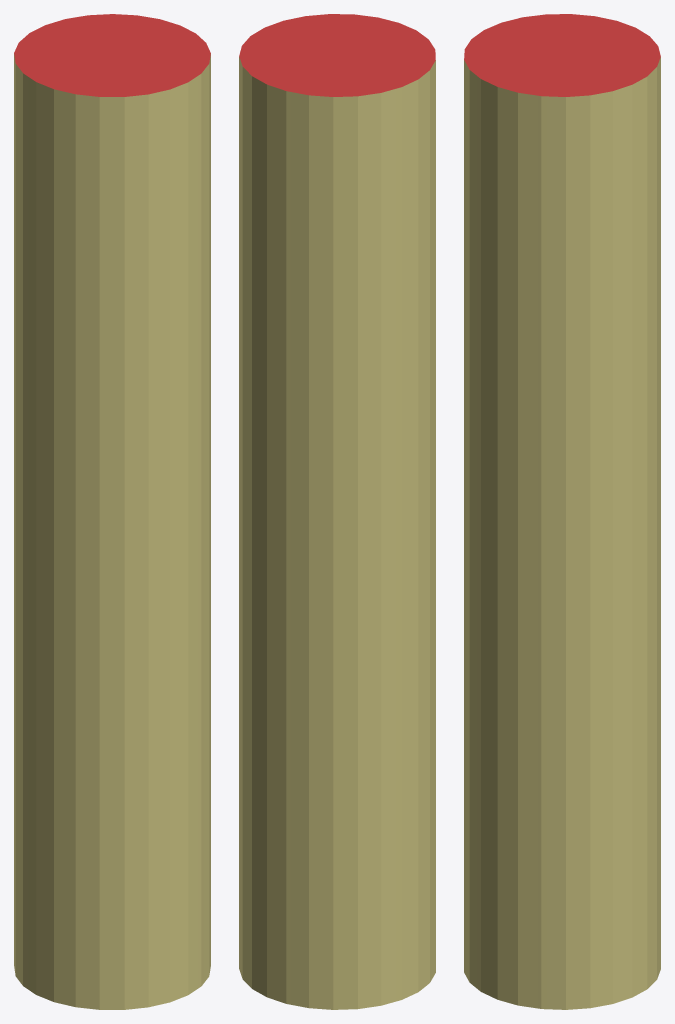
The picture shows the model from 3 angles, left to right: view 1: azimuth 30°, elevation 25°; view 2: azimuth 150°, elevation 25°; view 3: azimuth 270°, elevation 25°; orthographic projection.
Bounding box in the file's own units: 2.24 × 2.24 × 11.48.
